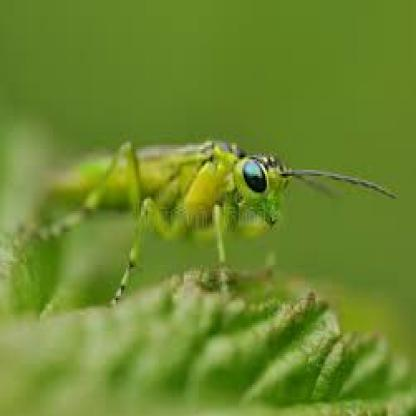sawfly: (31, 129, 400, 304)
